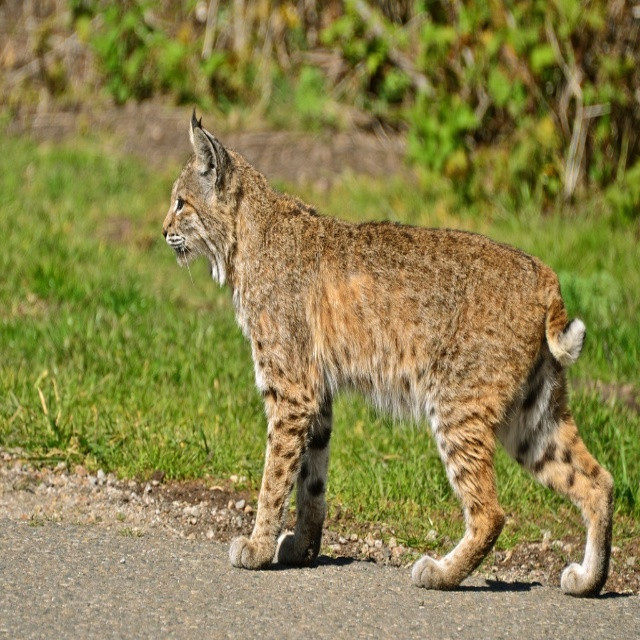Lynx: (160, 110, 612, 595)
